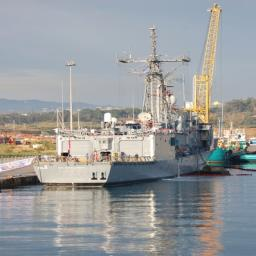Fragata: (27, 17, 219, 191)
